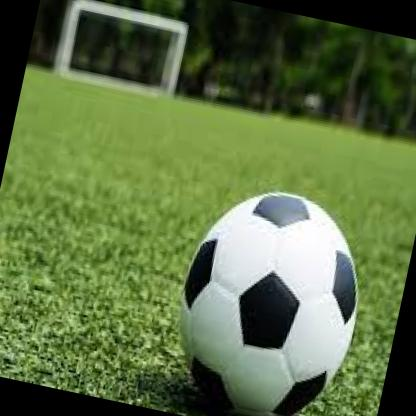ball: (158, 176, 378, 416)
